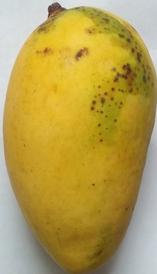Ripe: (1, 0, 157, 274)
